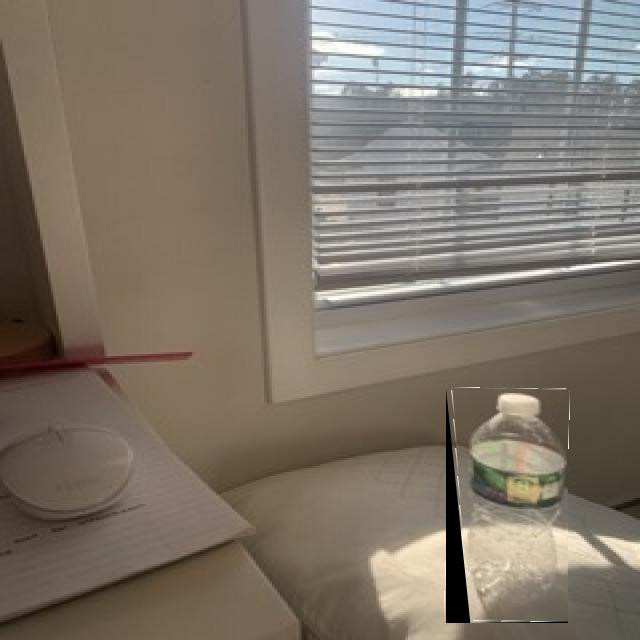water_bottle: (446, 388, 568, 623)
